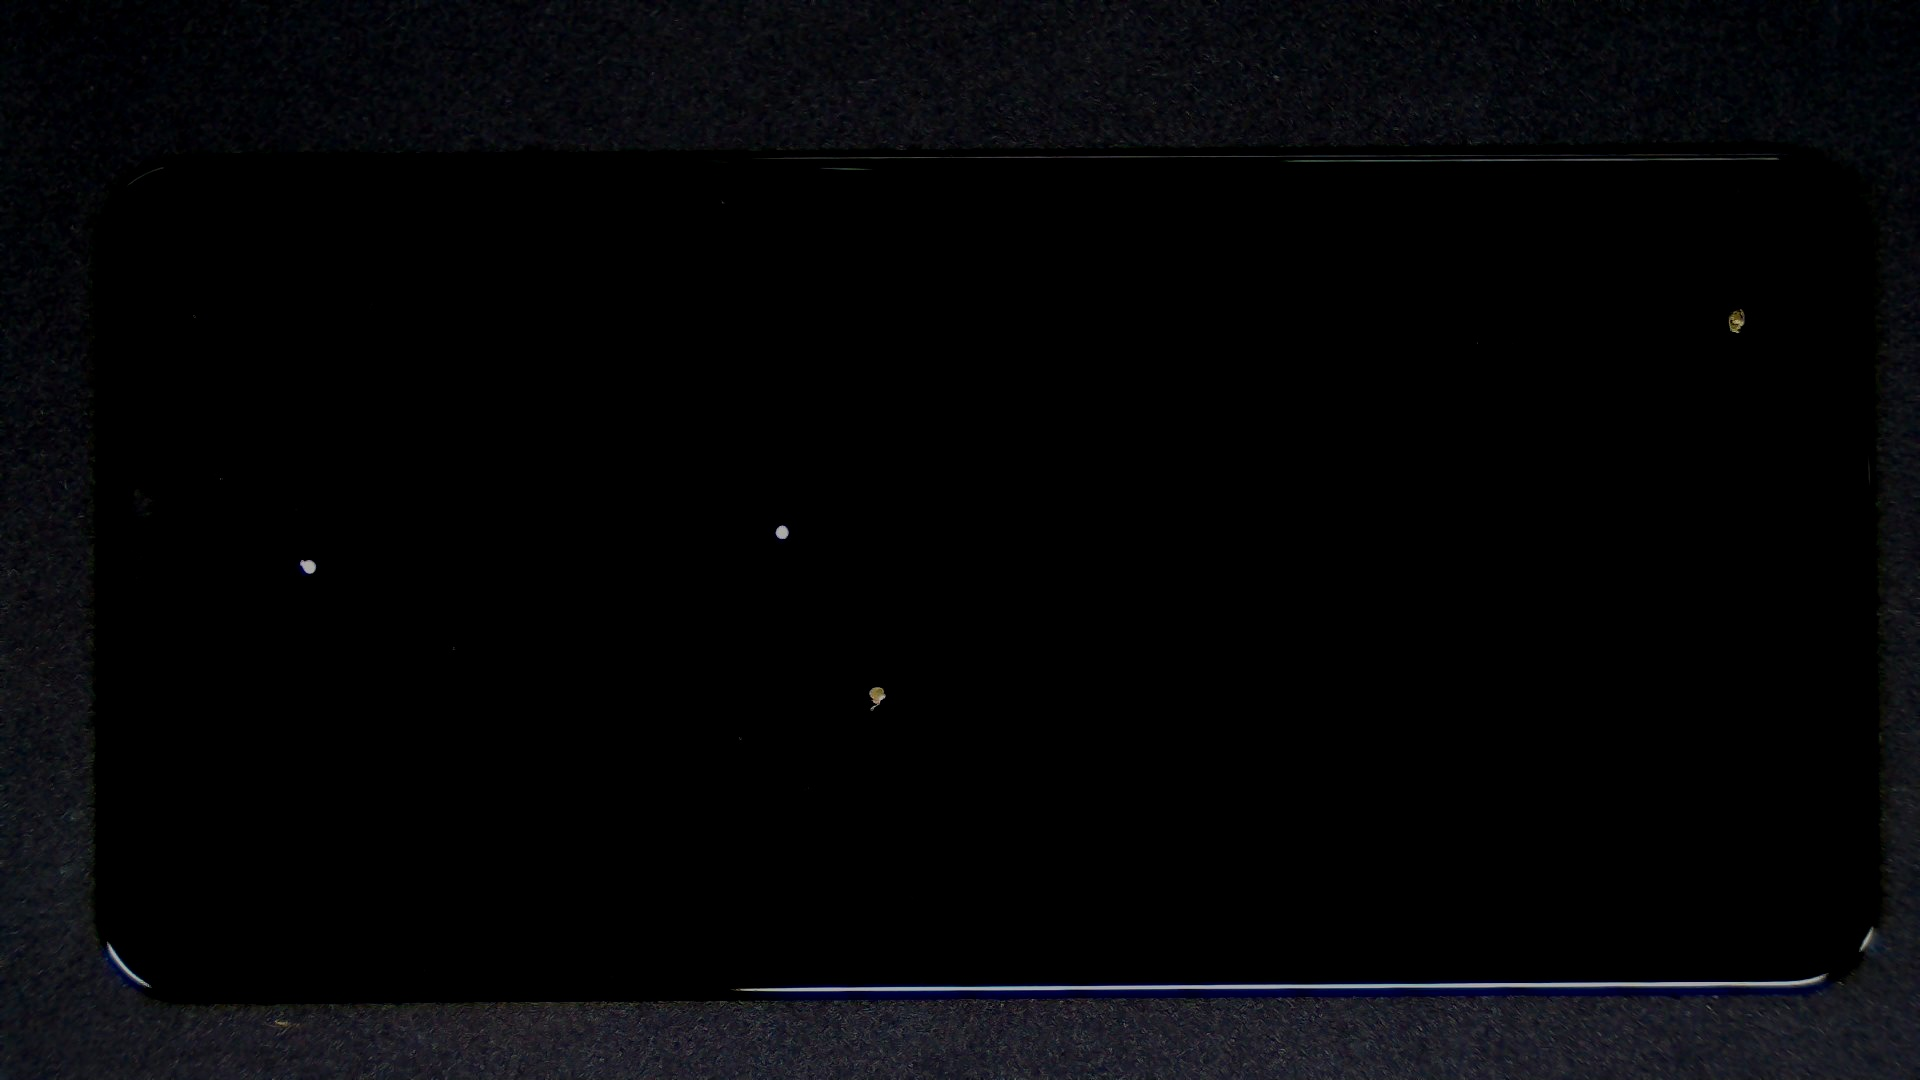oil: (439, 342, 1316, 1029), (392, 261, 1171, 786), (872, 153, 1920, 462), (152, 278, 451, 837)
